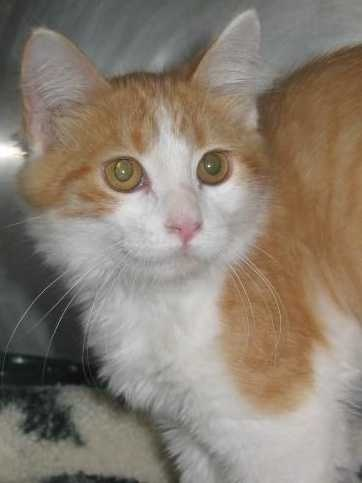Cat: (21, 10, 361, 462)
